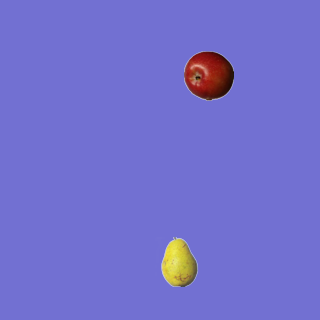Apple Braeburn: (183, 50, 233, 100)
Pear Monster: (154, 236, 204, 286)
